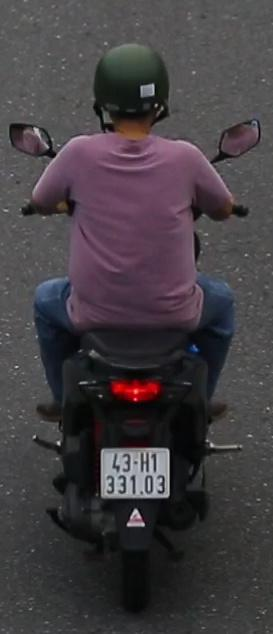LP: (96, 437, 173, 519)
helmet: (93, 39, 173, 135)
